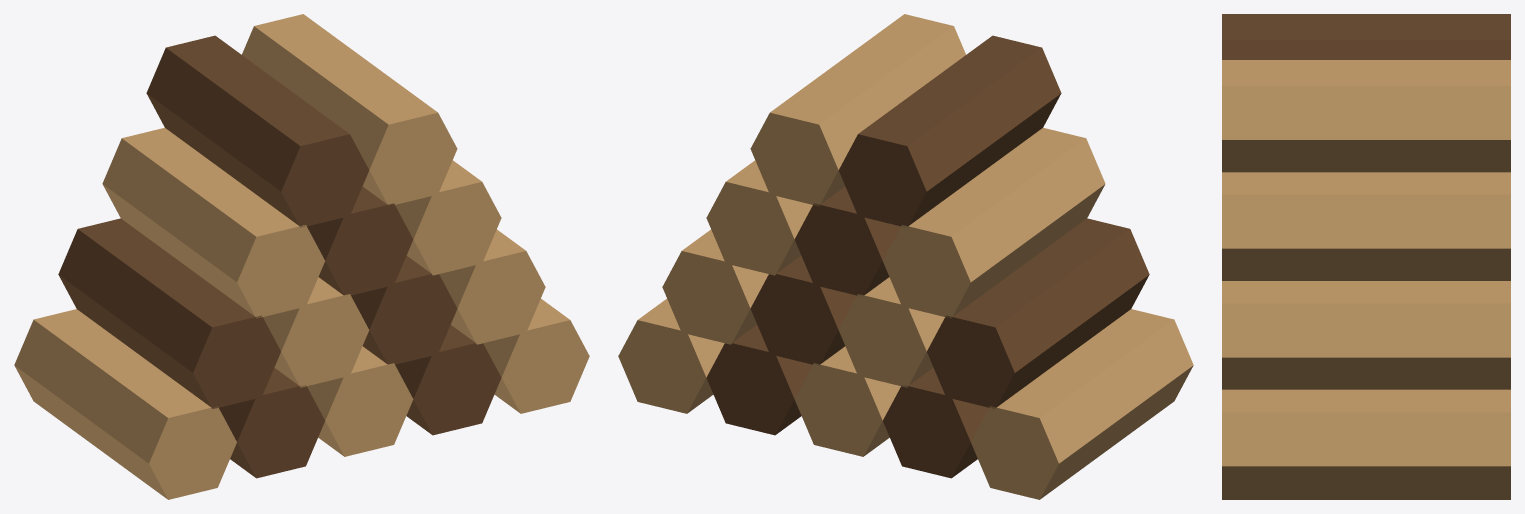
The model's file is GT_FirewoodStack_Small_01.glb.
3 views of the same model, side by side, from view 1: azimuth 30°, elevation 25°; view 2: azimuth 150°, elevation 25°; view 3: azimuth 270°, elevation 25° (orthographic). The views are drawn at different scales.
Visible parts, largest first — view 1: GT_FirewoodStack_Small_01; view 2: GT_FirewoodStack_Small_01; view 3: GT_FirewoodStack_Small_01.
Part boxes in pixels (box(x1,y1,x2,y2)): GT_FirewoodStack_Small_01: box(14, 14, 589, 499); GT_FirewoodStack_Small_01: box(618, 14, 1193, 499); GT_FirewoodStack_Small_01: box(1222, 14, 1510, 499).
Size of the model in its own units: 0.85 by 0.5925 by 0.45.
1 material, 1 textured.
